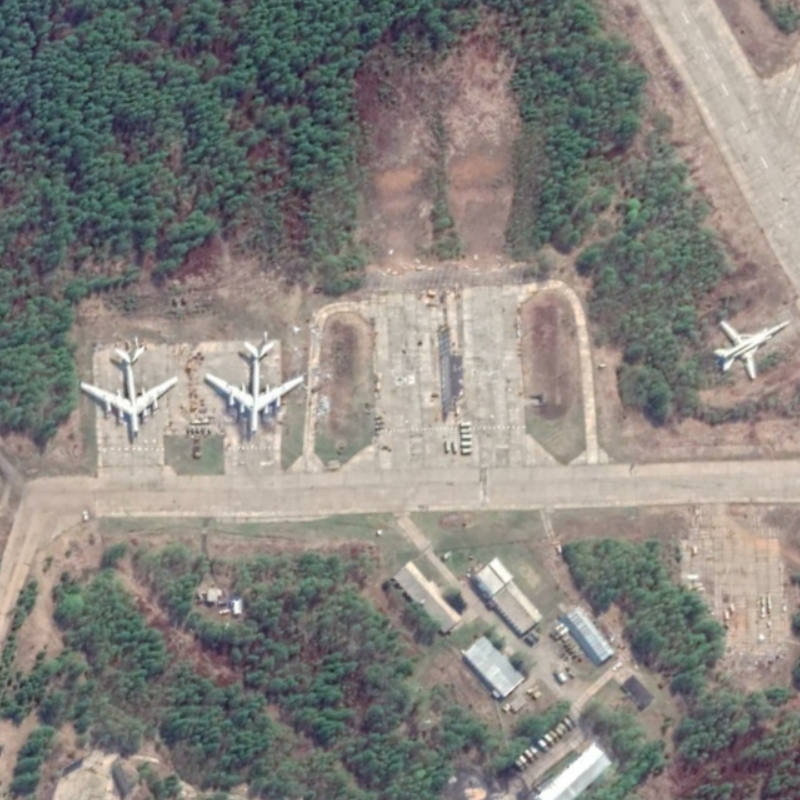A12: (710, 318, 793, 382)
A17: (201, 339, 308, 444), (77, 341, 181, 444)
